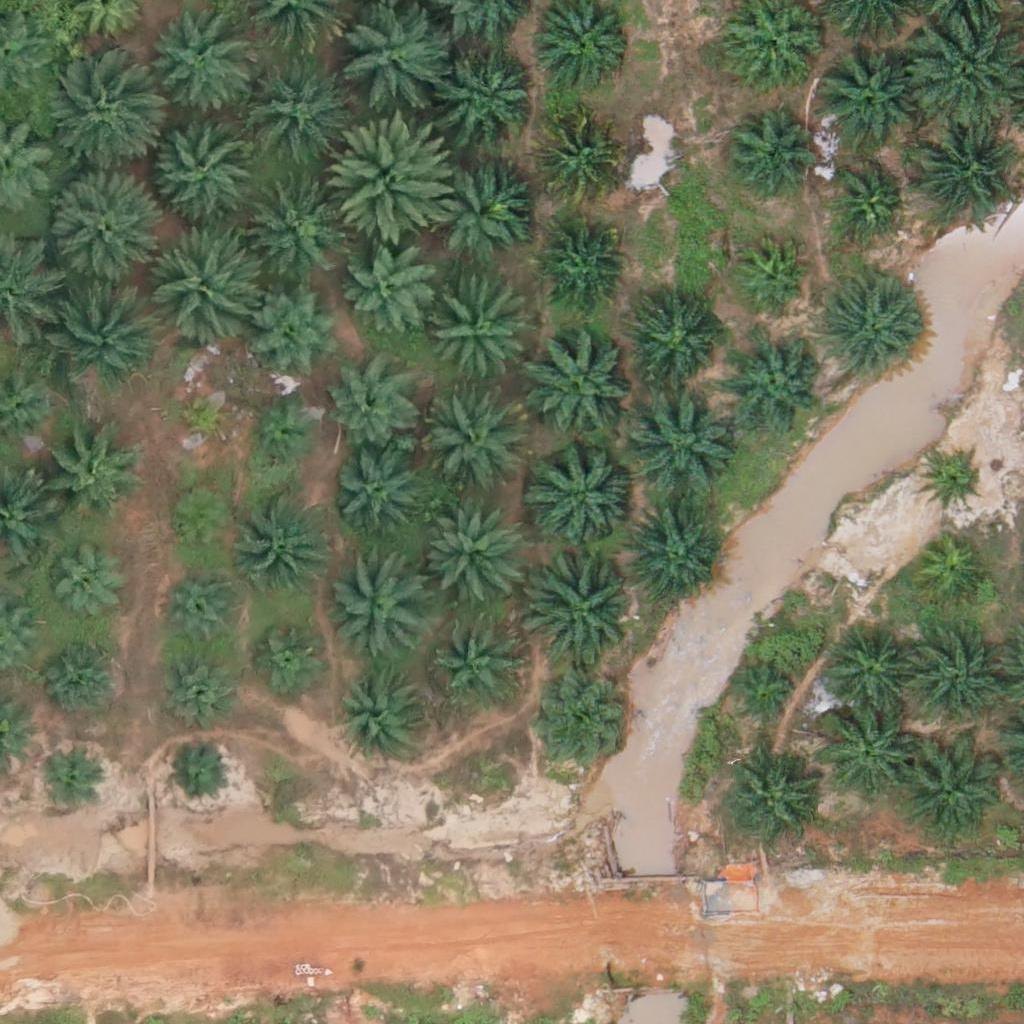Kelapa_Sawit: (332, 117, 457, 243), (894, 737, 1007, 850), (623, 383, 736, 496), (524, 327, 637, 440), (528, 438, 641, 551), (240, 55, 353, 168), (147, 110, 260, 223), (44, 171, 157, 284), (44, 273, 156, 387), (527, 550, 639, 663), (140, 11, 252, 124), (145, 228, 257, 341), (42, 62, 154, 175), (814, 46, 914, 147), (905, 632, 1005, 733), (820, 623, 920, 724), (622, 504, 722, 605), (722, 749, 822, 850), (530, 677, 630, 778), (441, 47, 541, 148), (427, 284, 527, 385), (422, 396, 522, 497), (418, 504, 518, 605), (244, 176, 344, 277), (246, 277, 346, 378), (38, 425, 138, 526), (237, 491, 337, 592), (912, 121, 1012, 221), (822, 281, 922, 381), (815, 703, 915, 803), (728, 334, 828, 434), (426, 154, 526, 254), (329, 556, 429, 656), (722, 106, 810, 194), (633, 301, 721, 389), (533, 112, 621, 200), (326, 364, 414, 452), (151, 647, 239, 735), (329, 451, 416, 540), (536, 220, 623, 308), (436, 622, 523, 710), (338, 671, 425, 759), (344, 244, 431, 332), (161, 566, 248, 654), (44, 549, 119, 625), (46, 637, 121, 713), (245, 397, 320, 473), (734, 237, 809, 313), (164, 484, 239, 560), (252, 619, 327, 694), (829, 163, 904, 238), (913, 537, 988, 612), (728, 661, 803, 736), (922, 450, 985, 513), (35, 745, 98, 808), (168, 741, 230, 804), (171, 385, 233, 448)
